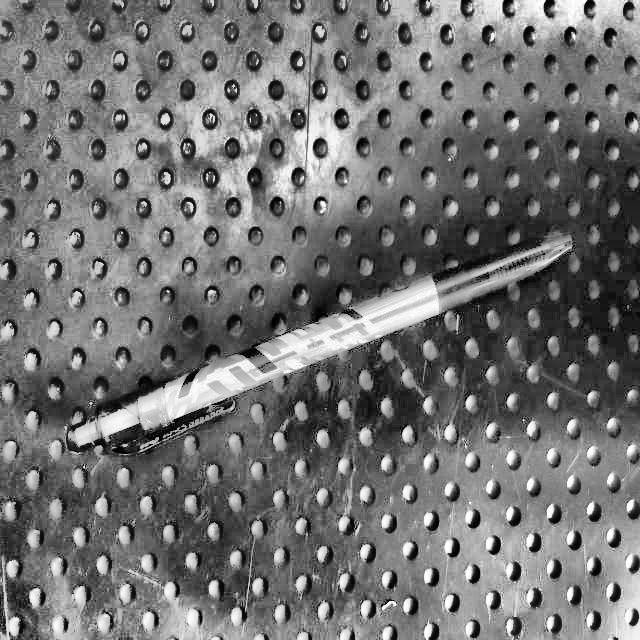Pen: (31, 173, 620, 488)
